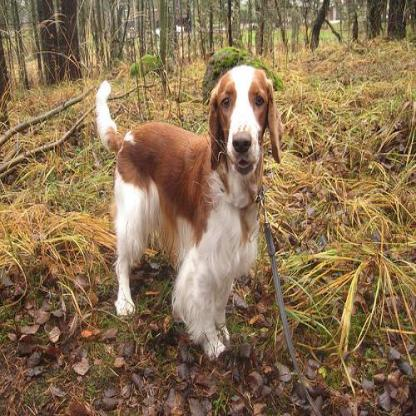Welsh_springer_spaniel: (94, 62, 282, 357)
